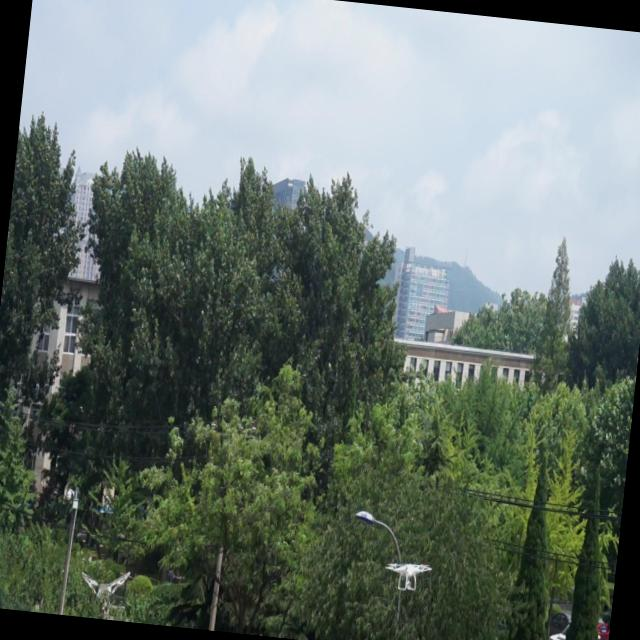drone: (380, 552, 438, 599)
